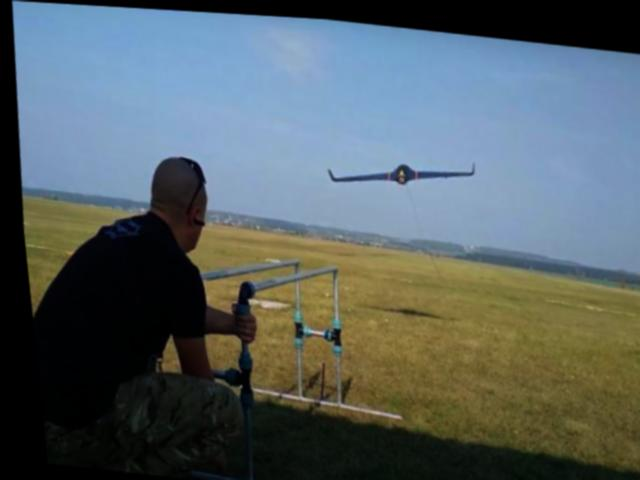iha: (315, 133, 481, 195)
